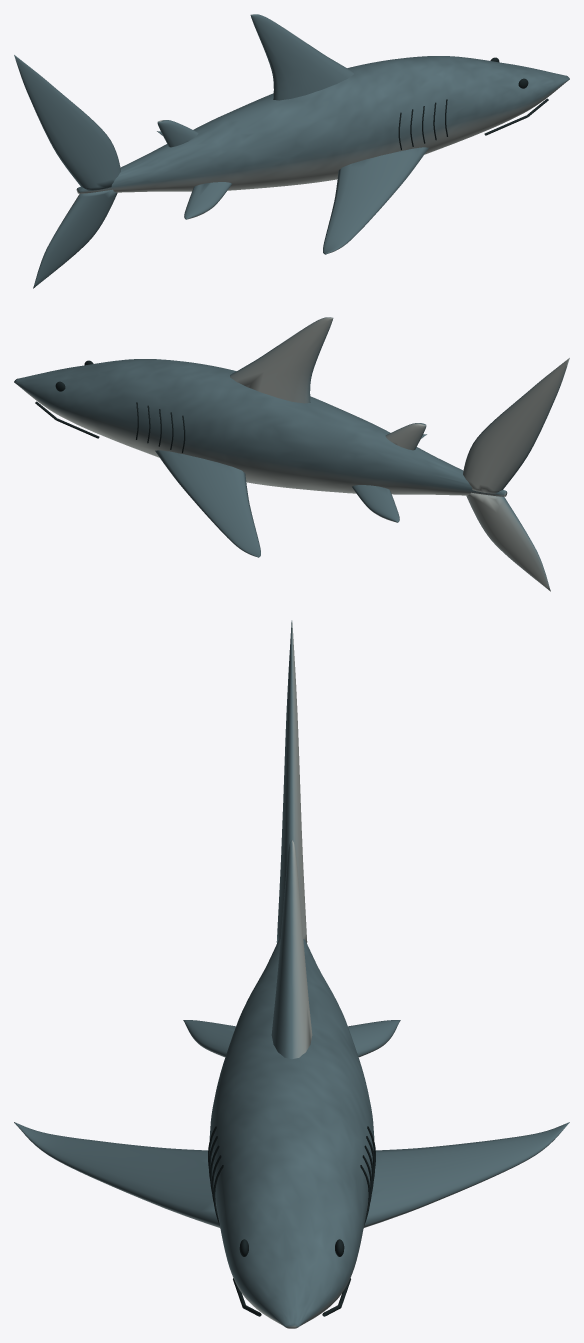
The model's file is shark.glb.
The picture shows the model from 3 angles, top to bottom: view 1: azimuth 30°, elevation 25°; view 2: azimuth 150°, elevation 25°; view 3: azimuth 270°, elevation 25°; orthographic projection. The views are drawn at different scales.
Parts seen in each view (by area): view 1: shark; view 2: shark; view 3: shark.
Part boxes in pixels (bbox=[...]): shark: bbox=[14, 14, 569, 288]; shark: bbox=[14, 317, 569, 591]; shark: bbox=[14, 620, 569, 1328].
Bounding box in the file's own units: 5.54 × 2.28 × 2.92.
